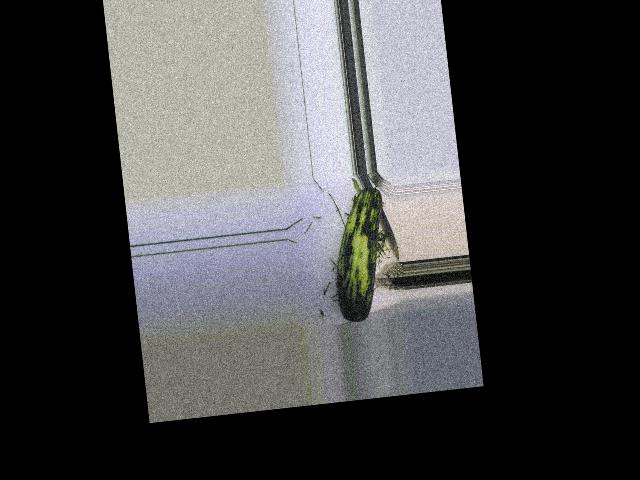cucumber: (326, 185, 395, 323)
